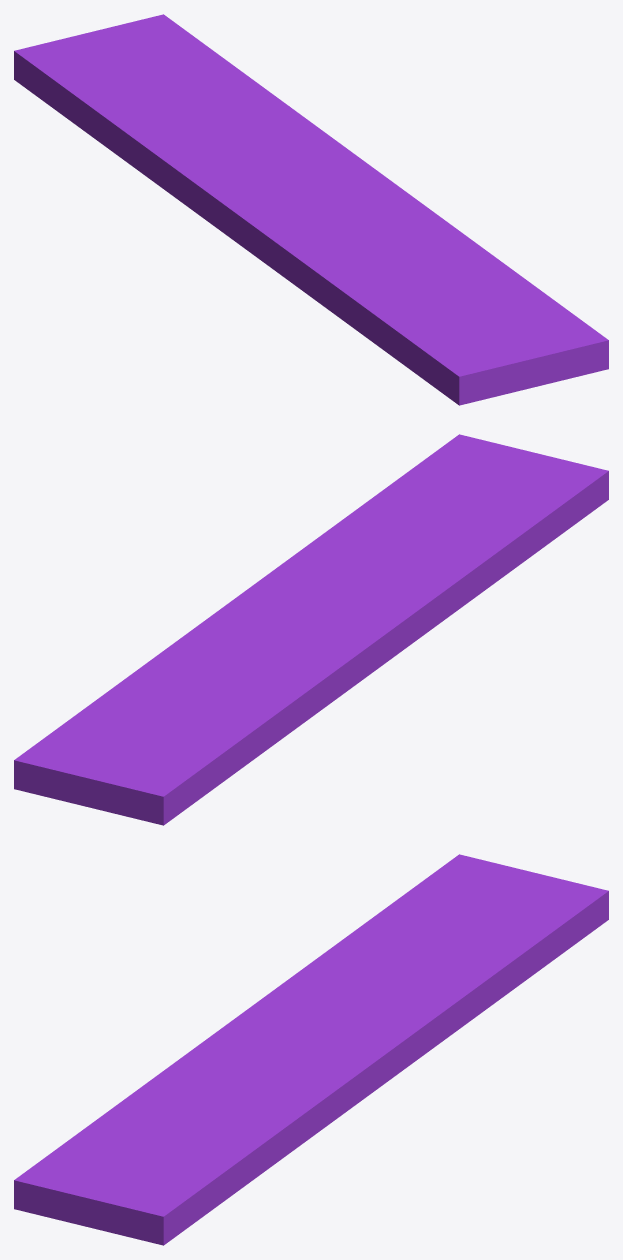
Rendered from StairsStep_78_chunks.fbx.
3 renders of one model, top to bottom at view 1: azimuth 30°, elevation 25°; view 2: azimuth 150°, elevation 25°; view 3: azimuth 330°, elevation 25°, orthographic.
Visible parts, largest first — view 1: StairsStep_78_3, StairsStep_78_2, StairsStep_78_1, StairsStep_78_0; view 2: StairsStep_78_3, StairsStep_78_2, StairsStep_78_1, StairsStep_78_0; view 3: StairsStep_78_3, StairsStep_78_2, StairsStep_78_1, StairsStep_78_0.
Boxes of the visible parts, left/top/right/bottom form: StairsStep_78_3: left=14, top=14, right=356, bottom=223; StairsStep_78_2: left=263, top=189, right=589, bottom=394; StairsStep_78_1: left=322, top=156, right=608, bottom=380; StairsStep_78_0: left=210, top=200, right=502, bottom=405; StairsStep_78_3: left=14, top=614, right=368, bottom=825; StairsStep_78_2: left=293, top=439, right=608, bottom=630; StairsStep_78_1: left=208, top=434, right=477, bottom=618; StairsStep_78_0: left=345, top=485, right=608, bottom=681; StairsStep_78_3: left=254, top=854, right=608, bottom=1057; StairsStep_78_2: left=14, top=1020, right=328, bottom=1233; StairsStep_78_1: left=115, top=1032, right=419, bottom=1245; StairsStep_78_0: left=14, top=1005, right=277, bottom=1219.
Size of the model in its own units: 157 by 28.98 by 810.
